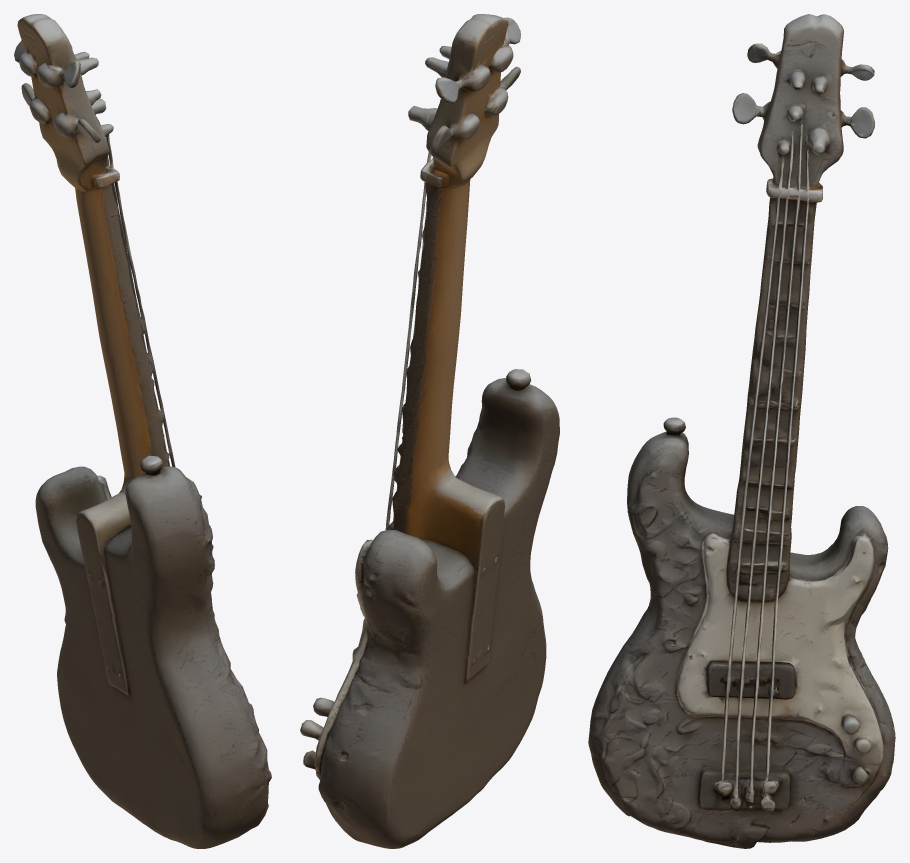
The model's file is bass.glb.
3 views of the same model, side by side, from view 1: azimuth 30°, elevation 25°; view 2: azimuth 150°, elevation 25°; view 3: azimuth 270°, elevation 25° (orthographic). The views are drawn at different scales.
Parts seen in each view (by area): view 1: tripo_node_ed1888d7-71e9-484c-817c-85e47abd5c1a; view 2: tripo_node_ed1888d7-71e9-484c-817c-85e47abd5c1a; view 3: tripo_node_ed1888d7-71e9-484c-817c-85e47abd5c1a.
Part boxes in pixels (bbox=[...]): tripo_node_ed1888d7-71e9-484c-817c-85e47abd5c1a: bbox=[14, 14, 271, 848]; tripo_node_ed1888d7-71e9-484c-817c-85e47abd5c1a: bbox=[300, 14, 559, 848]; tripo_node_ed1888d7-71e9-484c-817c-85e47abd5c1a: bbox=[588, 14, 895, 848].
Size of the model in its own units: 0.2138 by 1 by 0.3597.
1 material, 1 textured.
